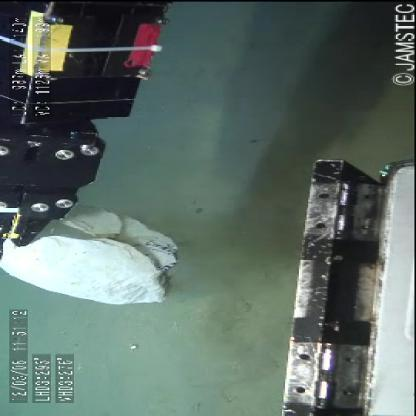Rov: (1, 2, 170, 241)
Rác: (1, 208, 184, 311)
